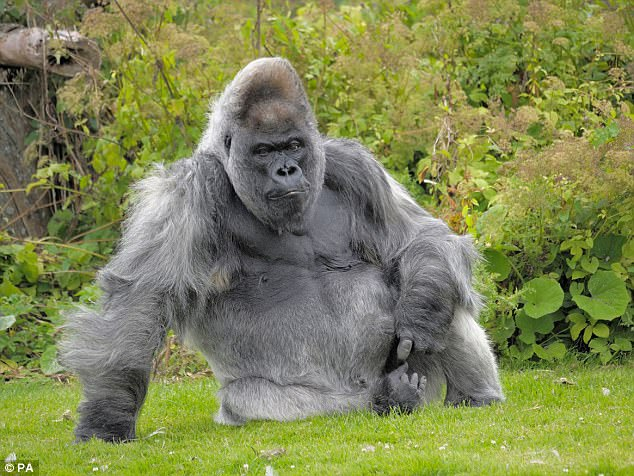Goriila: (69, 58, 580, 452)
